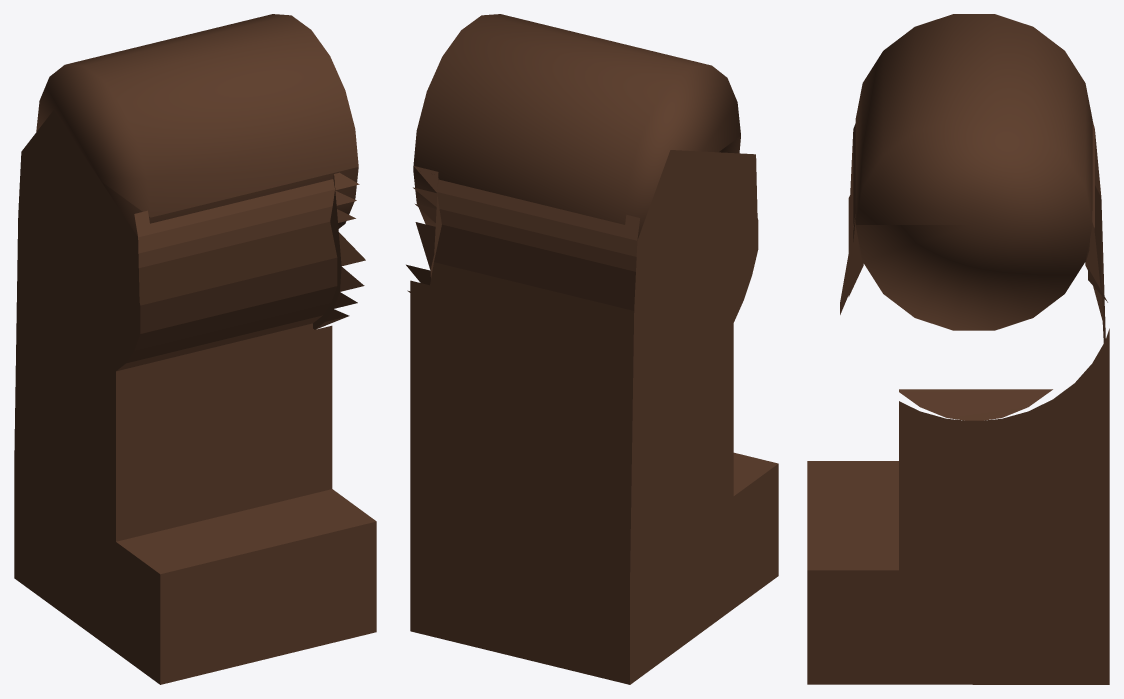
File: legL.glb
3 views of the same model, side by side, from view 1: azimuth 30°, elevation 25°; view 2: azimuth 150°, elevation 25°; view 3: azimuth 270°, elevation 25° (orthographic). The views are drawn at different scales.
Visible parts, largest first — view 1: mom_legL; view 2: mom_legL; view 3: mom_legL.
Boxes of the visible parts, <box> form: mom_legL: <box>14,14,376,684</box>; mom_legL: <box>406,14,778,684</box>; mom_legL: <box>807,14,1109,684</box>.
Size of the model in its own units: 0.3056 by 0.7237 by 0.3488.
